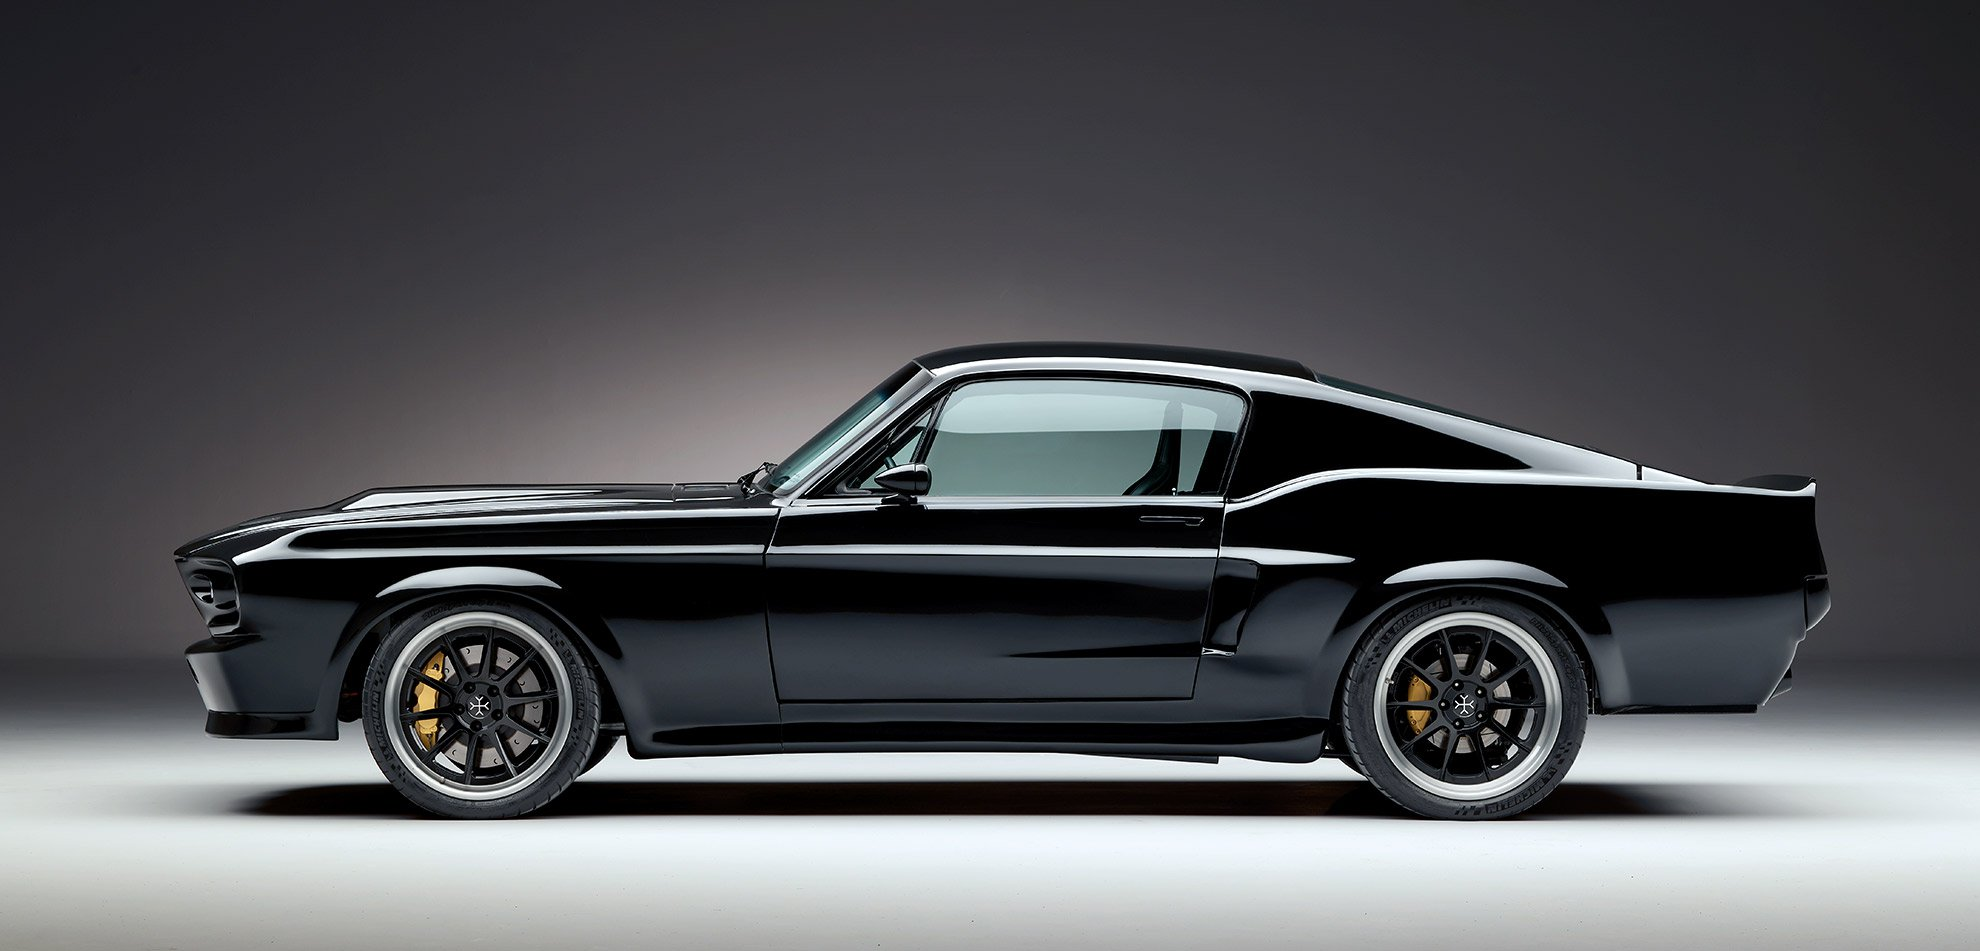car: (174, 332, 1817, 807)
